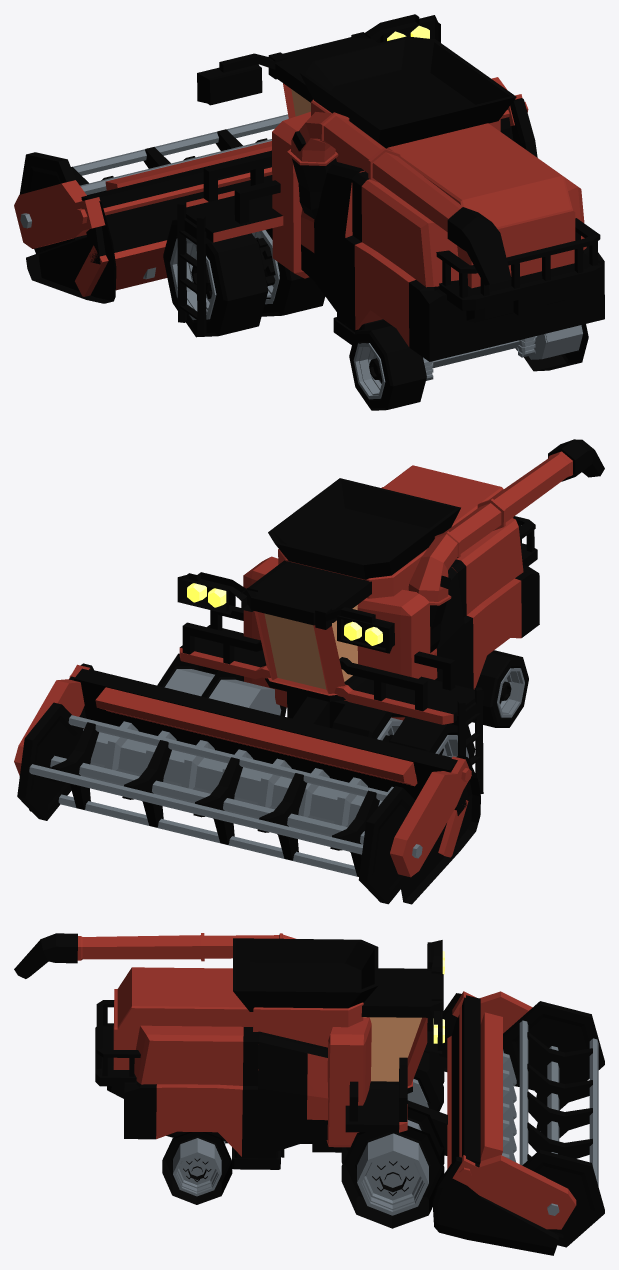
File: harvestor.glb
3 views of the same model, one above another, from view 1: azimuth 30°, elevation 25°; view 2: azimuth 150°, elevation 25°; view 3: azimuth 270°, elevation 25° (orthographic). The views are drawn at different scales.
Parts seen in each view (by area): view 1: Cube.026; view 2: Cube.026; view 3: Cube.026.
Boxes of the visible parts, x1,y1,x2,y2 form: Cube.026: [14, 14, 604, 410]; Cube.026: [14, 439, 604, 904]; Cube.026: [14, 933, 604, 1255].
Bounding box in the file's own units: 507 × 286 × 735.
